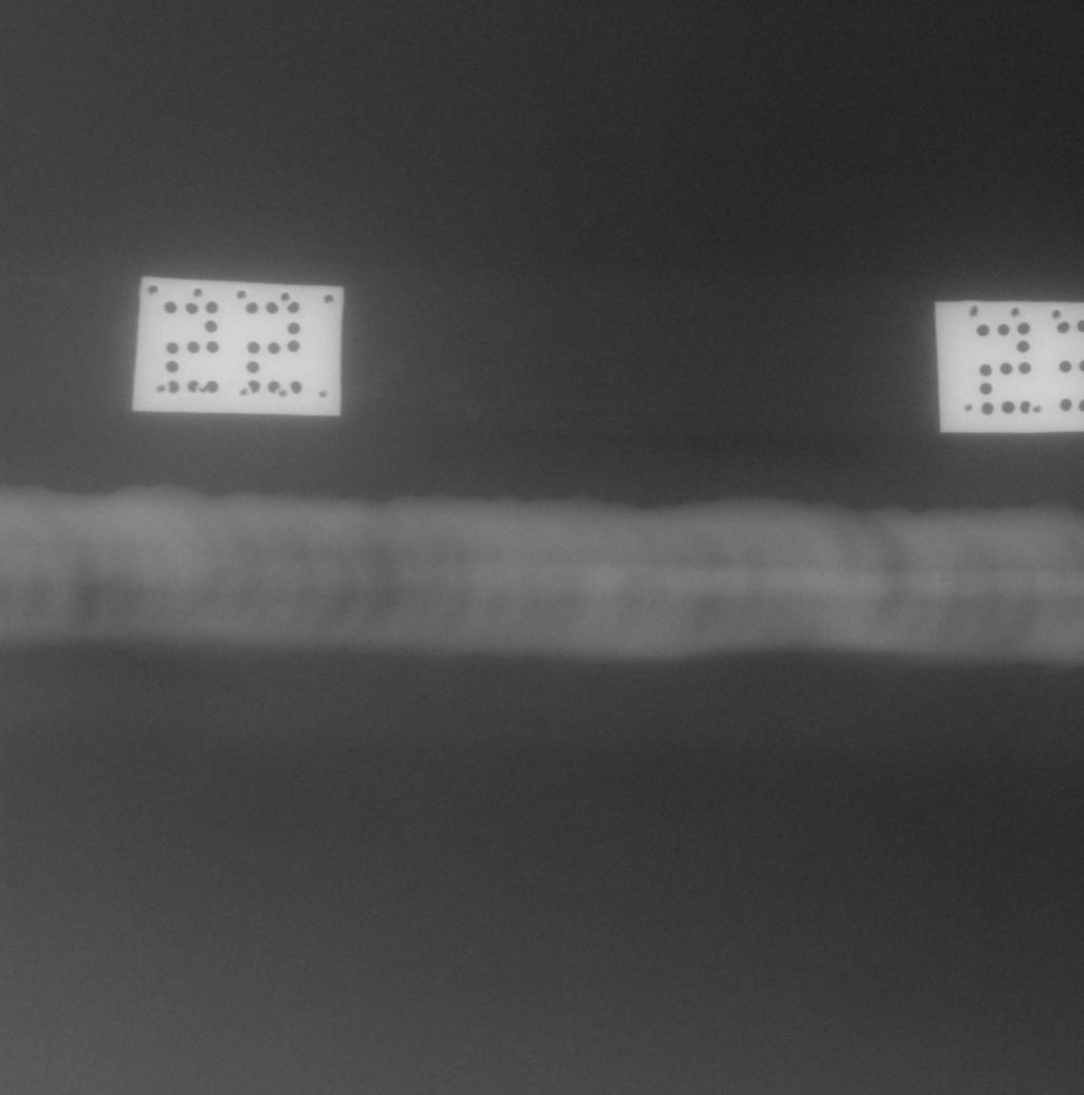Pore/Porosity: (410, 565, 416, 573)
